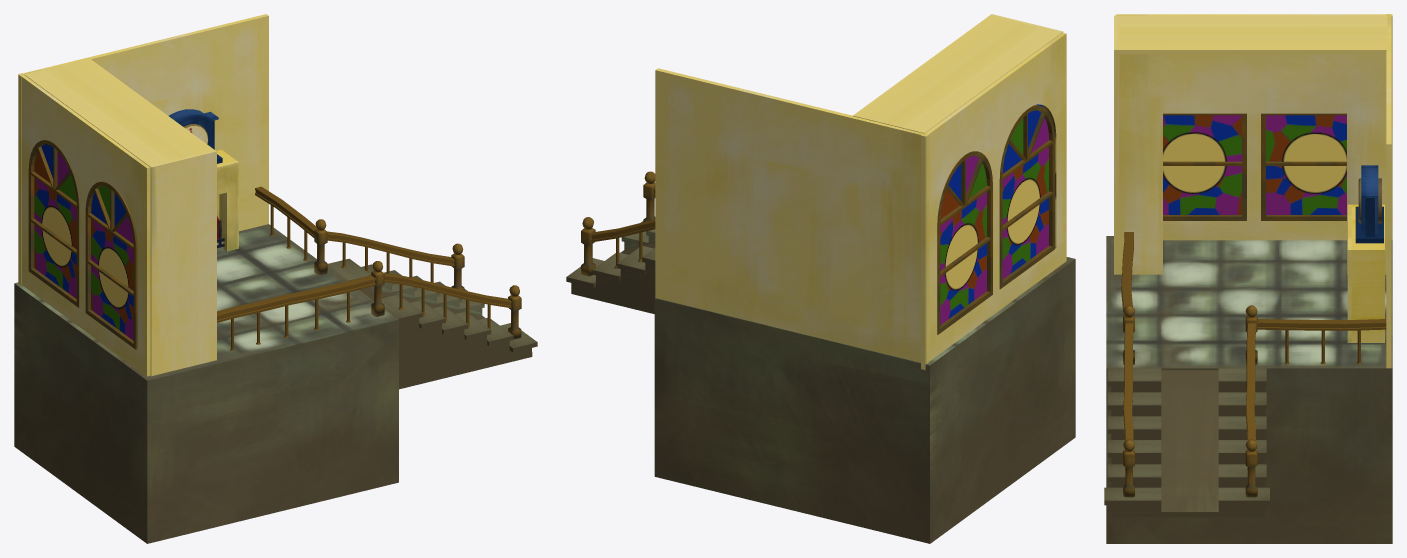
File: lv1_start.fbx
3 views of the same model, side by side, from view 1: azimuth 30°, elevation 25°; view 2: azimuth 150°, elevation 25°; view 3: azimuth 270°, elevation 25° (orthographic). The views are drawn at different scales.
Parts seen in each view (by area): view 1: floor1, wall_side, Stair, wall_side_right, wall_back, window, window_frame1, window_frame, fireplace3, c_body; view 2: floor1, wall_side_right, wall_back, window, wall_side, Stair, window_frame, window_frame1; view 3: floor1, Stair, wall_front, window, wall_side, wall_back, f_main, wall_side_right, window_frame, window_frame1, c_body, fireplace3 (+3 smaller).
Part boxes in pixels (<box>): floor1: <box>14,224,398,543</box>; wall_side: <box>24,58,216,375</box>; Stair: <box>217,186,537,389</box>; wall_side_right: <box>18,14,268,284</box>; wall_back: <box>18,73,150,376</box>; window: <box>34,144,133,340</box>; window_frame1: <box>85,181,137,349</box>; window_frame: <box>28,140,79,307</box>; fireplace3: <box>217,161,238,251</box>; c_body: <box>169,109,218,147</box>; floor1: <box>654,257,1075,543</box>; wall_side_right: <box>655,68,929,363</box>; wall_back: <box>921,32,1066,369</box>; window: <box>940,104,1048,324</box>; wall_side: <box>853,14,1063,133</box>; Stair: <box>566,171,655,313</box>; window_frame: <box>937,151,992,334</box>; window_frame1: <box>999,105,1054,289</box>; floor1: <box>1106,236,1392,543</box>; Stair: <box>1104,232,1386,517</box>; wall_front: <box>1119,54,1386,274</box>; window: <box>1163,115,1346,214</box>; wall_side: <box>1114,15,1387,274</box>; wall_back: <box>1115,14,1392,240</box>; f_main: <box>1351,204,1384,342</box>; wall_side_right: <box>1386,14,1391,368</box>; window_frame: <box>1261,113,1346,220</box>; window_frame1: <box>1163,113,1246,220</box>; c_body: <box>1361,165,1378,234</box>; fireplace3: <box>1347,204,1351,342</box>.
Size of the model in its own units: 59.35 by 54.18 by 35.34.
Materials: 3 (3 with a texture image).
